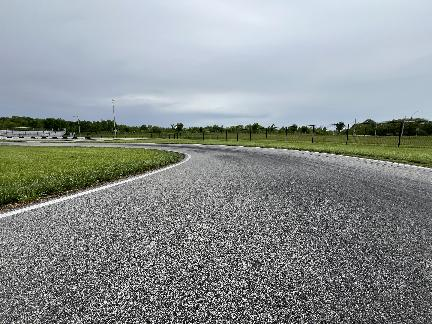Grass: (0, 146, 182, 204), (116, 139, 431, 167)
Lane: (0, 142, 431, 323)
